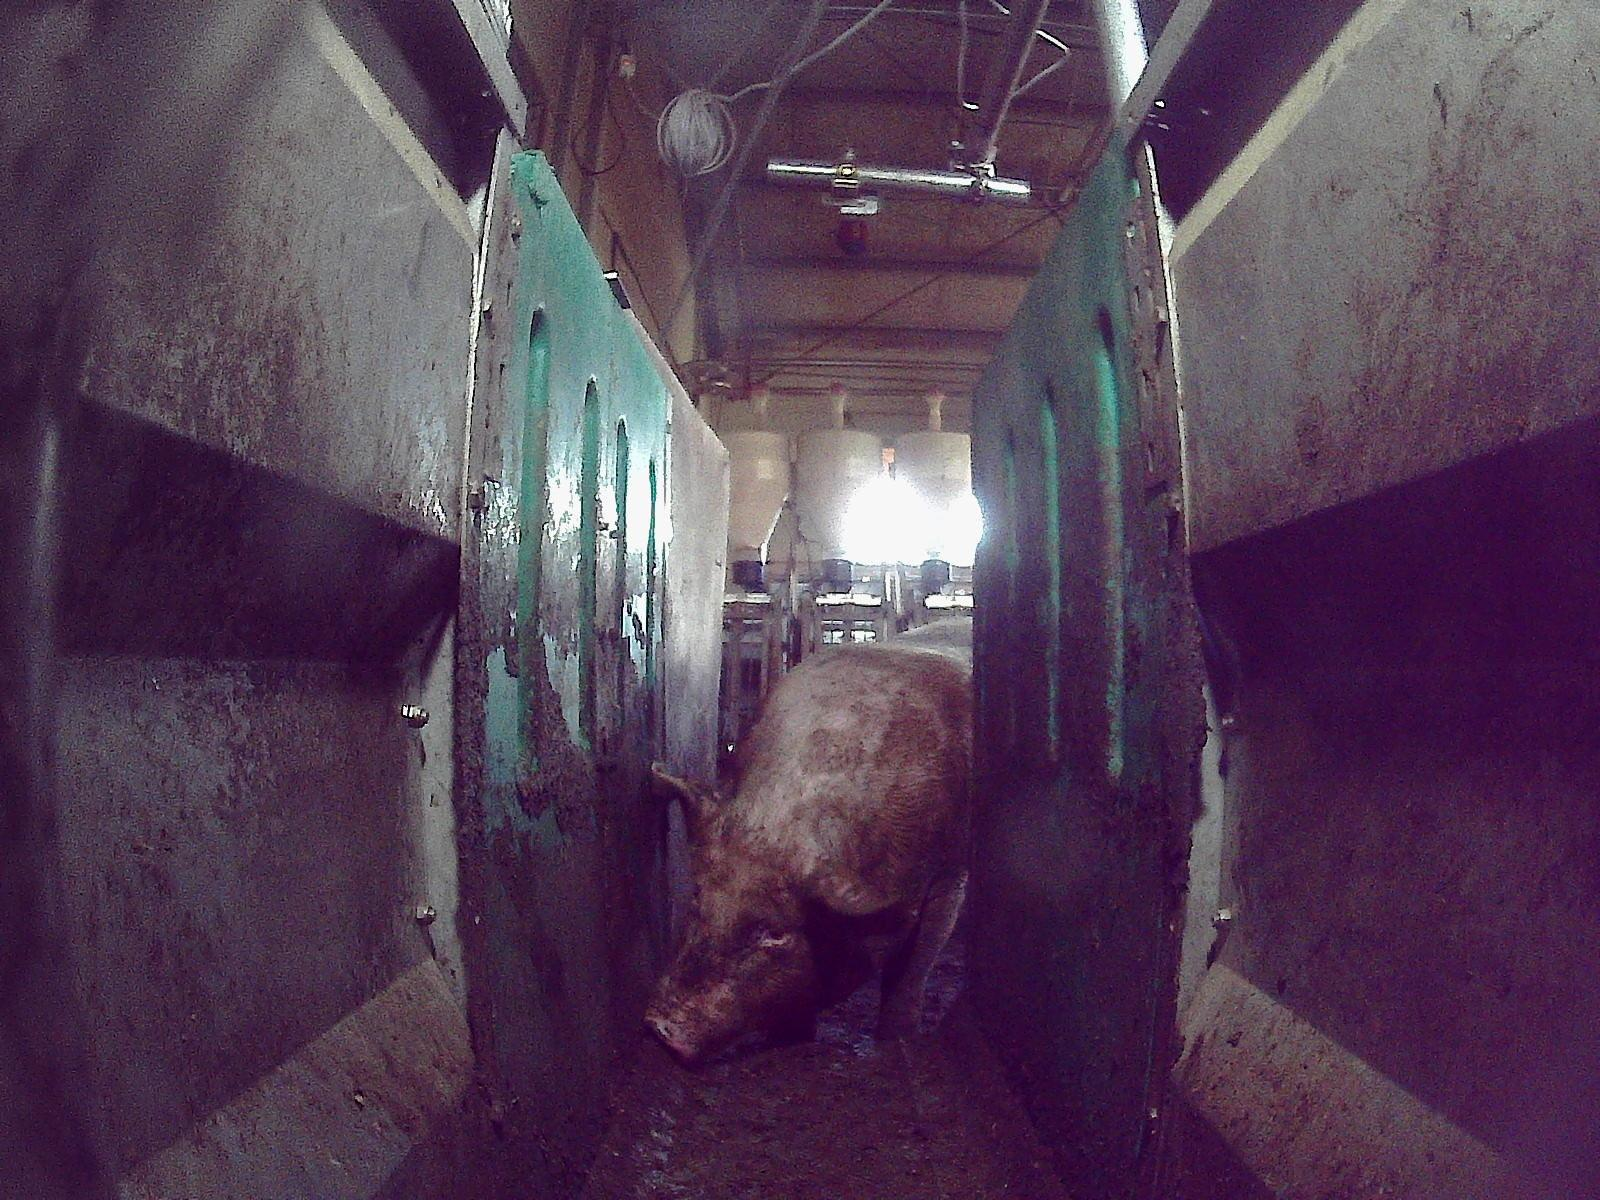Face: (646, 813, 852, 1071)
